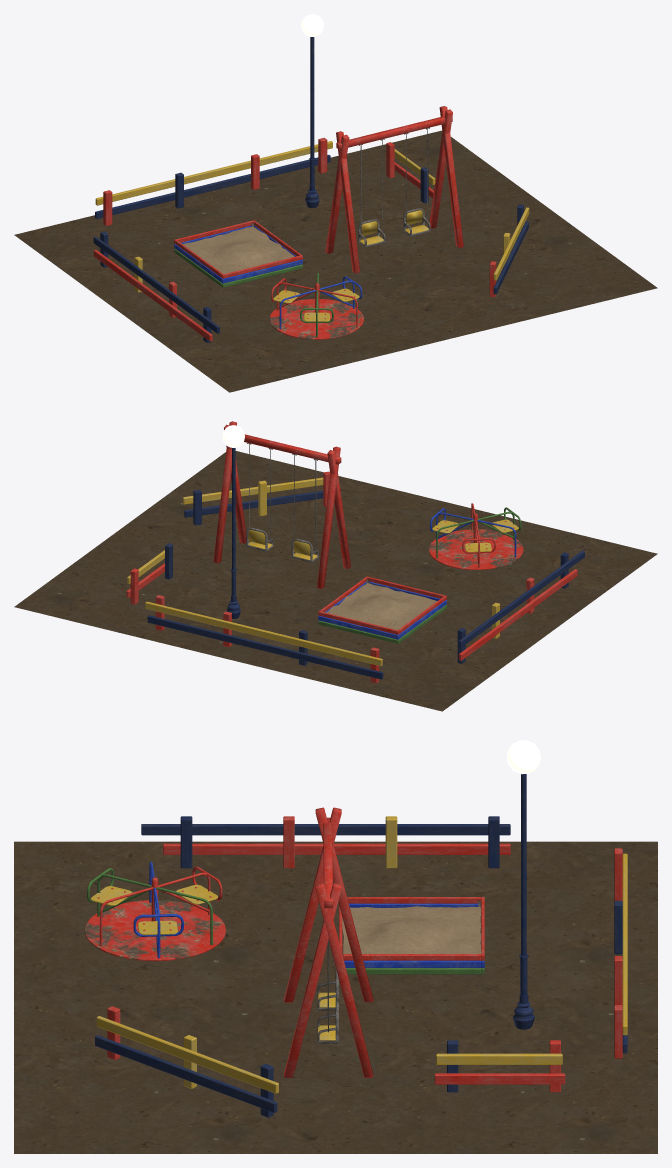
The model's file is play-swings.glb.
3 renders of one model, top to bottom at view 1: azimuth 30°, elevation 25°; view 2: azimuth 150°, elevation 25°; view 3: azimuth 270°, elevation 25°, orthographic. The views are drawn at different scales.
Visible parts, largest first — view 1: child ground_child ground_0, child zabor_child zabor_0, child swing_swing_0, child sand_sand_0, child sandbox_sandbox_0, child swing2_swing1_0, child swing2_swing2_0, child lamp_metal_0; view 2: child ground_child ground_0, child zabor_child zabor_0, child swing_swing_0, child sand_sand_0, child sandbox_sandbox_0, child swing2_swing1_0, child swing2_swing2_0, child lamp_metal_0, child lamp_lamp em_0; view 3: child ground_child ground_0, child zabor_child zabor_0, child swing_swing_0, child sand_sand_0, child swing2_swing1_0, child sandbox_sandbox_0, child swing2_swing2_0, child lamp_metal_0, child lamp_lamp em_0.
Boxes of the visible parts, x1,y1,x2,y2 form: child ground_child ground_0: (14,130,657,392); child zabor_child zabor_0: (93,137,529,342); child swing_swing_0: (325,106,463,273); child sand_sand_0: (183,226,294,273); child sandbox_sandbox_0: (174,220,302,287); child swing2_swing1_0: (269,299,363,339); child swing2_swing2_0: (271,273,362,337); child lamp_metal_0: (305,37,319,208); child ground_child ground_0: (14,451,657,711); child zabor_child zabor_0: (126,471,584,683); child swing_swing_0: (213,421,350,588); child sand_sand_0: (326,583,436,630); child sandbox_sandbox_0: (318,576,446,643); child swing2_swing1_0: (429,529,523,569); child swing2_swing2_0: (430,503,521,567); child lamp_metal_0: (226,448,240,618); child lamp_lamp em_0: (222,425,244,447); child ground_child ground_0: (14,841,657,1153); child zabor_child zabor_0: (95,816,627,1117); child swing_swing_0: (284,807,373,1077); child sand_sand_0: (342,906,481,954); child swing2_swing1_0: (84,900,225,961); child sandbox_sandbox_0: (339,897,484,974); child swing2_swing2_0: (87,861,222,958); child lamp_metal_0: (513,774,534,1029); child lamp_lamp em_0: (506,740,540,774).
Size of the model in its own units: 8805 by 3744 by 7673.
9 materials, 8 textured.
